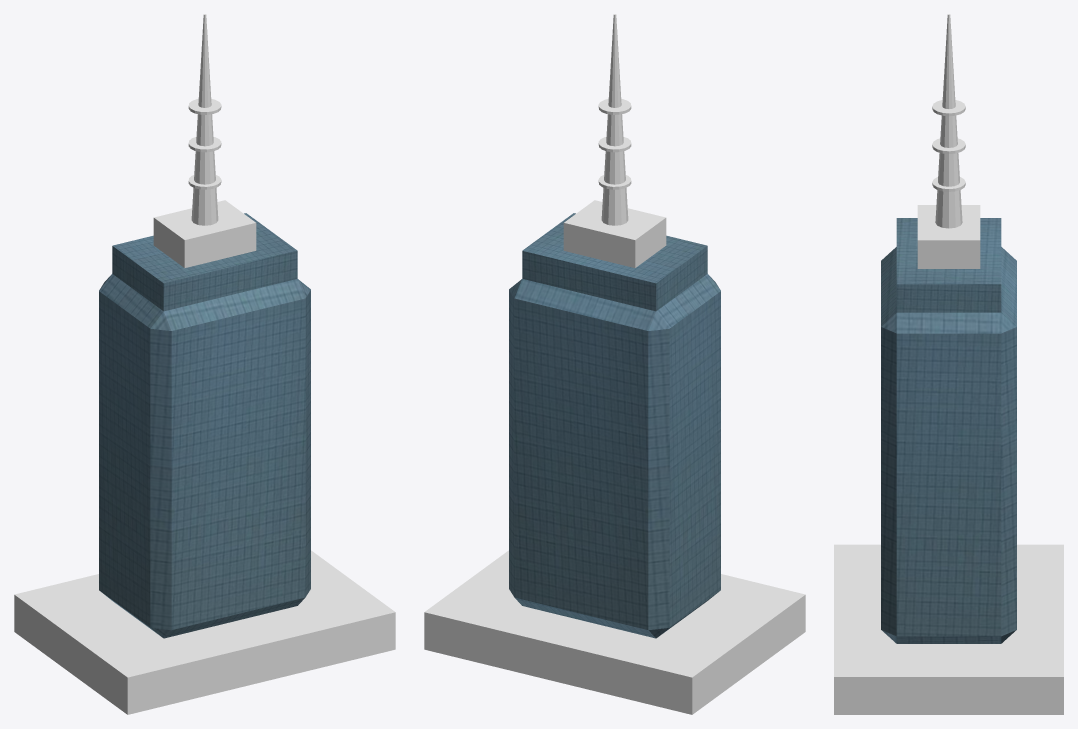
File: civic_towers.glb
3 renders of one model, left to right at view 1: azimuth 30°, elevation 25°; view 2: azimuth 150°, elevation 25°; view 3: azimuth 270°, elevation 25°, orthographic.
Visible parts, largest first — view 1: tower, podium, setback, crown, spire; view 2: tower, podium, setback, crown, spire; view 3: tower, podium, setback, crown, spire.
Boxes of the visible parts, x1=… form: tower: x1=99, y1=274, x2=310, y2=638; podium: x1=14, y1=550, x2=395, y2=714; setback: x1=112, y1=213, x2=297, y2=311; crown: x1=153, y1=200, x2=256, y2=267; spire: x1=191, y1=14, x2=218, y2=225; tower: x1=509, y1=274, x2=720, y2=638; podium: x1=424, y1=550, x2=805, y2=714; setback: x1=522, y1=213, x2=707, y2=311; crown: x1=563, y1=200, x2=666, y2=267; spire: x1=601, y1=14, x2=628, y2=225; tower: x1=881, y1=247, x2=1016, y2=643; podium: x1=834, y1=544, x2=1063, y2=714; setback: x1=896, y1=218, x2=1001, y2=312; crown: x1=917, y1=205, x2=980, y2=268; spire: x1=935, y1=14, x2=962, y2=228.
Bounding box in the file's own units: 60 × 134 × 44.
Materials: 2 (1 with a texture image).
